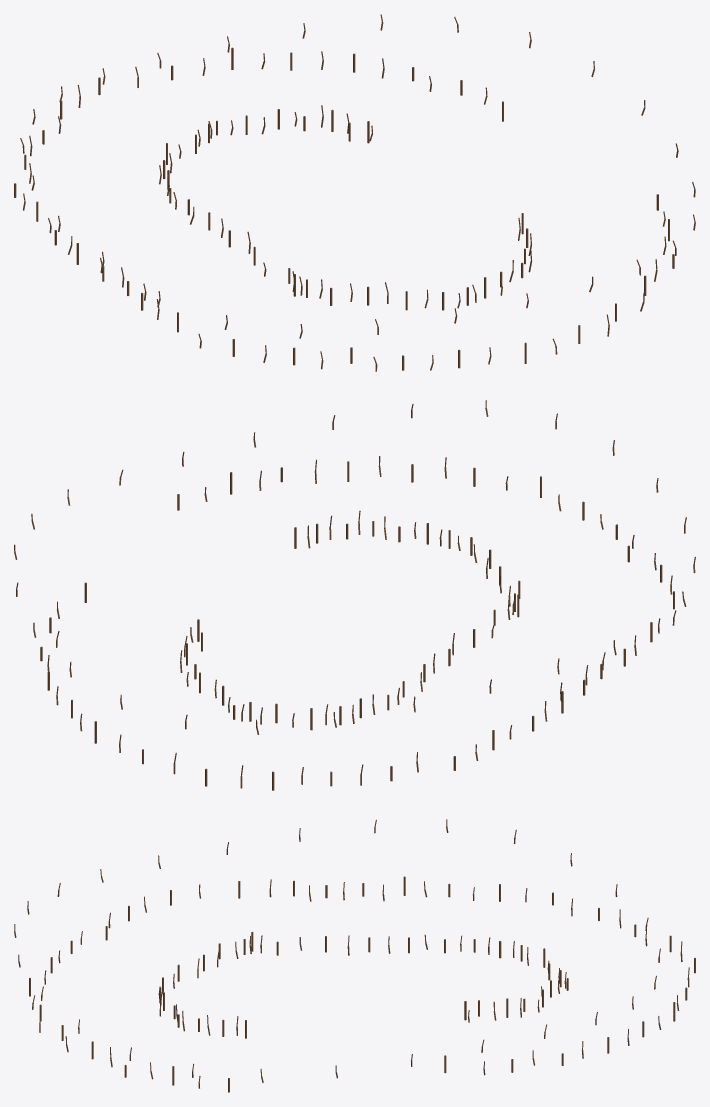
Rendered from Jungle_Timber_1.fbx.
3 renders of one model, top to bottom at view 1: azimuth 30°, elevation 25°; view 2: azimuth 150°, elevation 25°; view 3: azimuth 270°, elevation 25°, orthographic. The views are drawn at different scales.
Visible parts, largest first — view 1: Jungle_Timber_1; view 2: Jungle_Timber_1; view 3: Jungle_Timber_1.
Part boxes in pixels (x1=…): Jungle_Timber_1: x1=14, y1=14, x2=695, y2=371; Jungle_Timber_1: x1=14, y1=400, x2=695, y2=790; Jungle_Timber_1: x1=14, y1=819, x2=695, y2=1092.
Size of the model in its own units: 102393 by 13637 by 121703.
